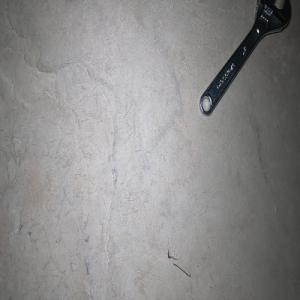Wrench: (199, 0, 290, 116)
